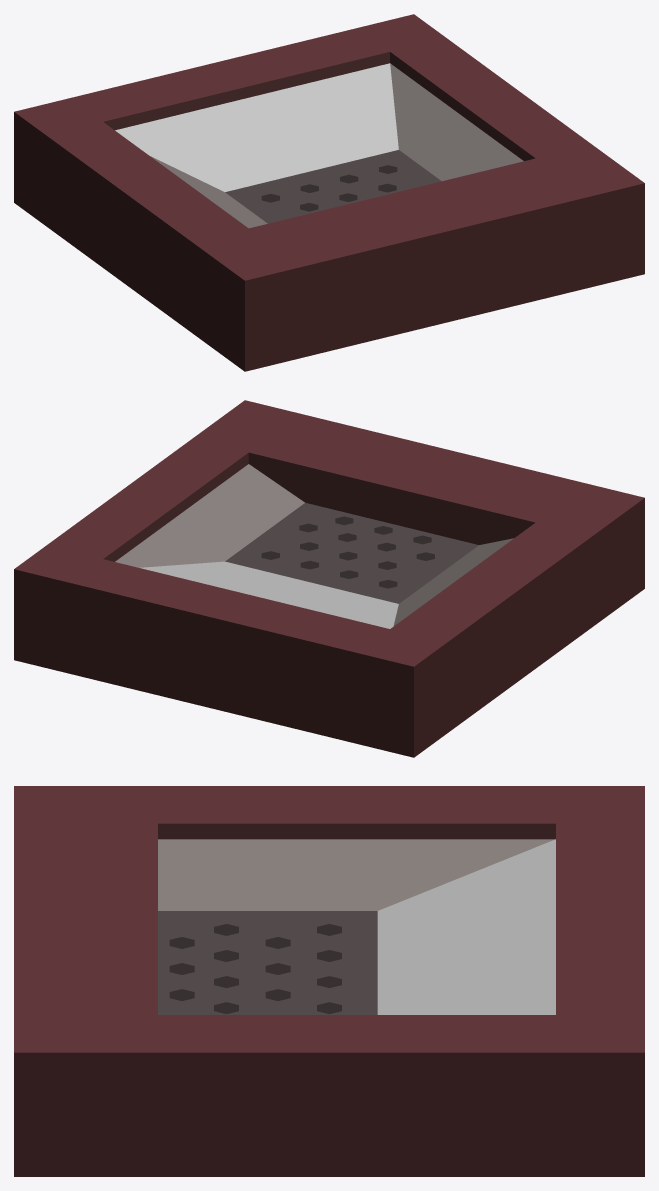
The model's file is vce_drain_chem.obj.
The picture shows the model from 3 angles, top to bottom: view 1: azimuth 30°, elevation 25°; view 2: azimuth 150°, elevation 25°; view 3: azimuth 270°, elevation 25°; orthographic projection. The views are drawn at different scales.
Size of the model in its own units: 0.92 by 0.2 by 0.92.
